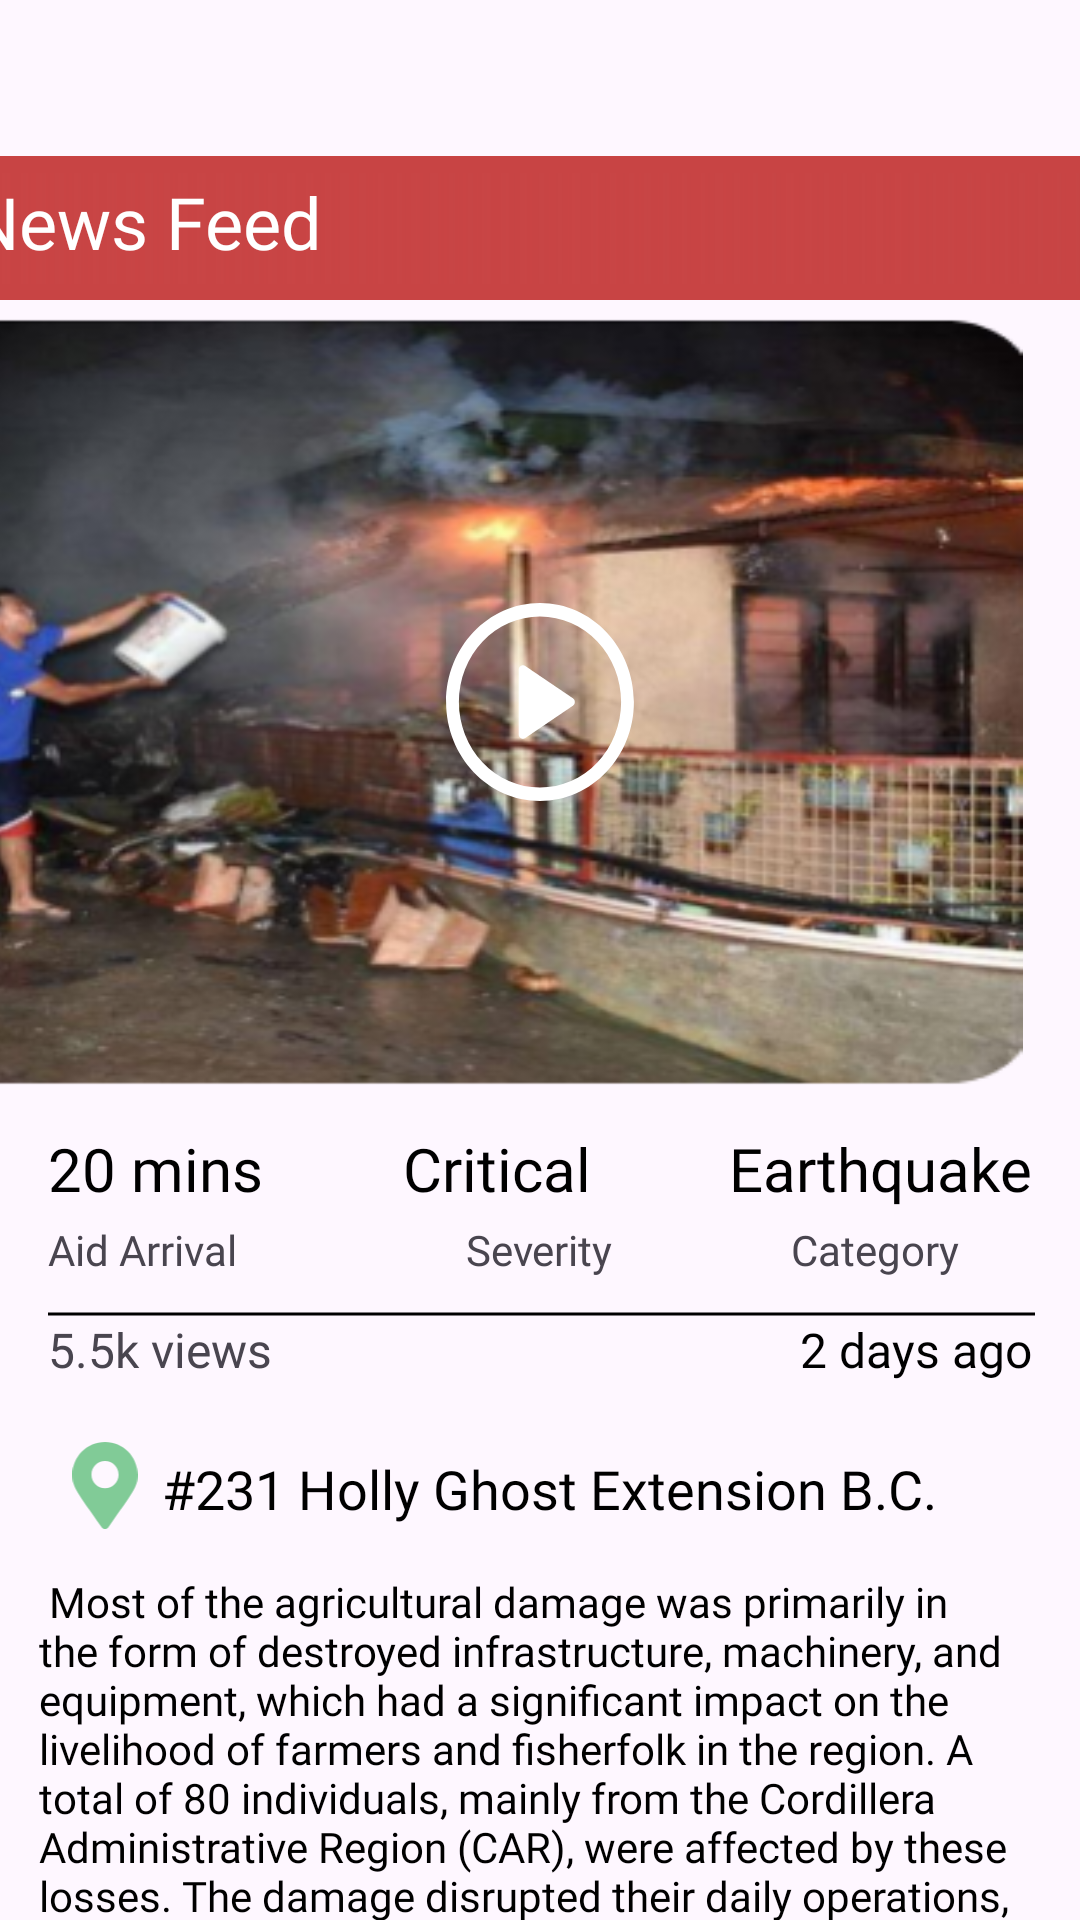

Named icons in this screenshot (1080x1920) and their centers, point (x, y):
octicon play: point (540, 702)
pinlocation: point (105, 1485)
